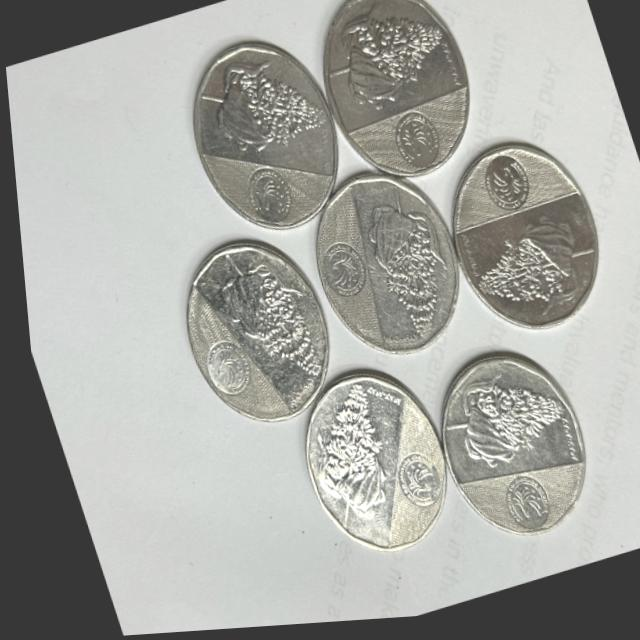10_New_Back: (283, 376, 418, 543), (347, 179, 469, 356), (448, 194, 596, 339), (189, 37, 335, 180), (219, 244, 337, 406), (421, 356, 562, 488), (313, 0, 453, 131)
